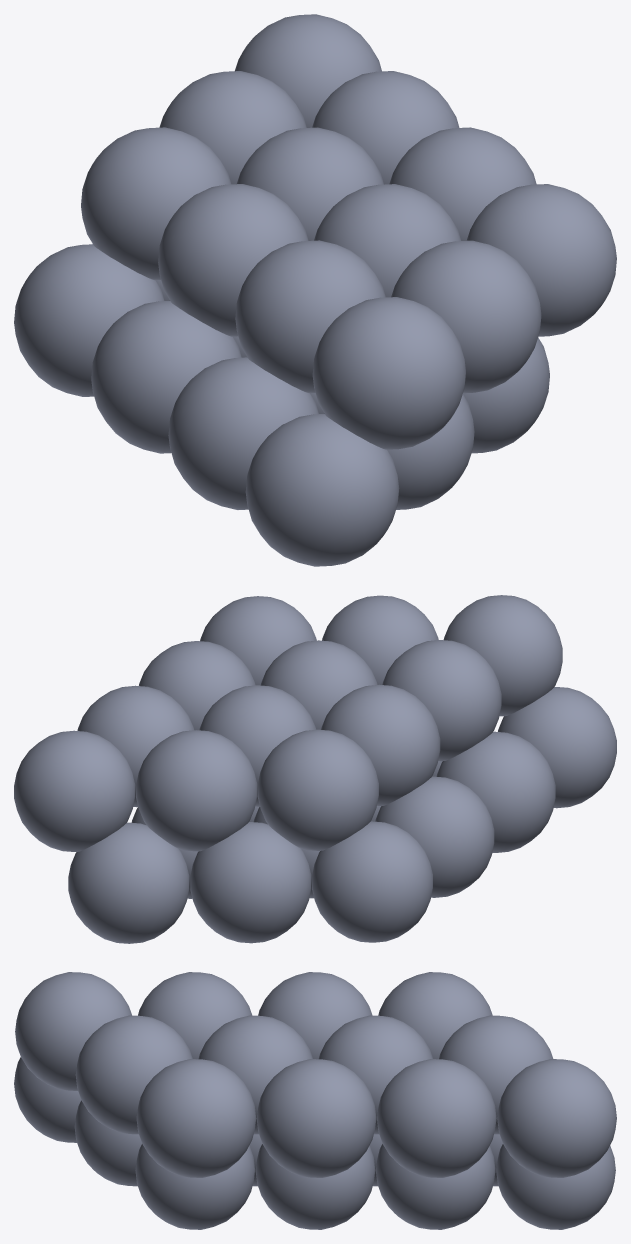
3 views of the same model, one above another, from view 1: azimuth 30°, elevation 25°; view 2: azimuth 150°, elevation 25°; view 3: azimuth 270°, elevation 25° (orthographic). The views are drawn at different scales.
Parts seen in each view (by area): view 1: GeoSphere562; view 2: GeoSphere562; view 3: GeoSphere562.
Part boxes in pixels (left/top/right/bottom): GeoSphere562: left=14, top=14, right=616, bottom=566; GeoSphere562: left=14, top=595, right=616, bottom=943; GeoSphere562: left=14, top=972, right=616, bottom=1229.
Size of the model in its own units: 129 by 68.36 by 202.
Materials: 1 (1 with a texture image).
